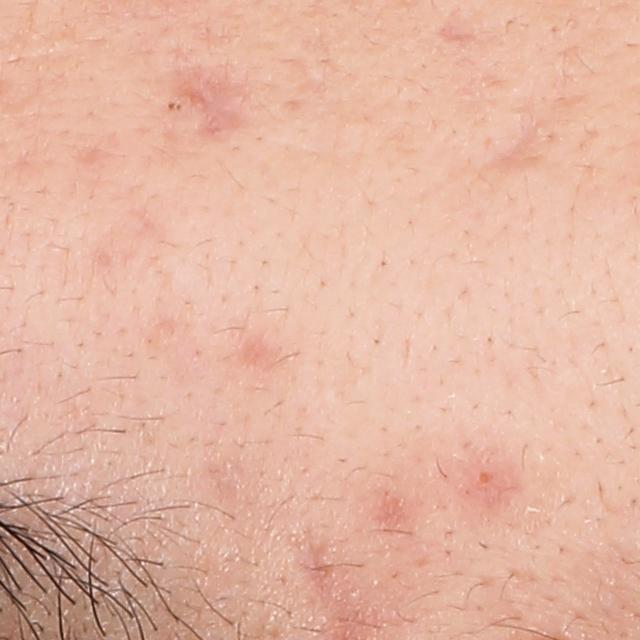atrophic_scar: (475, 98, 551, 181), (171, 72, 240, 142), (434, 4, 476, 45)
comedo: (163, 96, 189, 116)
papule: (473, 468, 501, 494)
